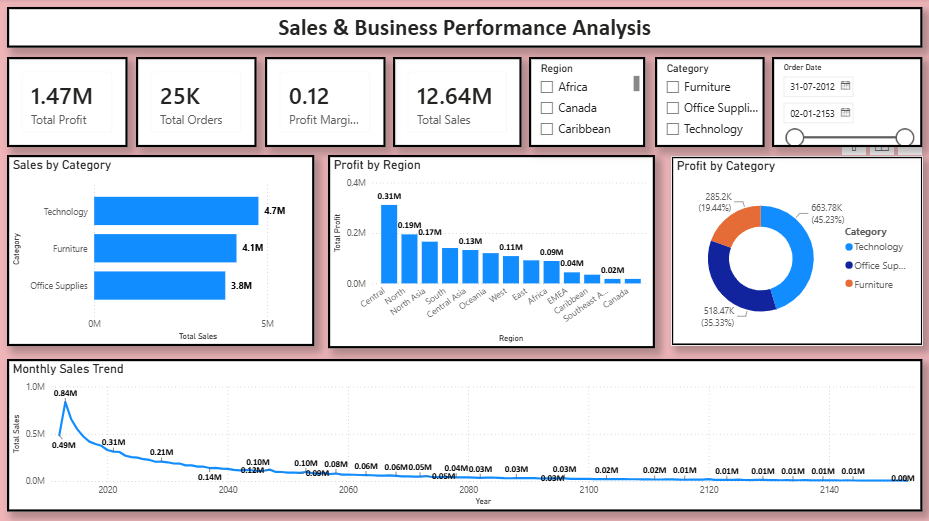

Layout of this report page (visuals, bound fields, positions):
{"tool":"powerbi","page":{"name":"Sales Overview","canvas":[1280,720],"ordinal":0},"visuals":[{"type":"cardVisual","fields":{"Data":["Orders_Cleaned.Total Sales"]},"box":[541.4,80,177.1,124.3],"z":0},{"type":"cardVisual","fields":{"Data":["Orders_Cleaned.Total Profit"]},"box":[10,80,165.7,124.3],"z":1000},{"type":"cardVisual","fields":{"Data":["Orders_Cleaned.Total Orders"]},"box":[187.1,80,165.7,124.3],"z":2000},{"type":"cardVisual","fields":{"Data":["Orders_Cleaned.Profit Margin %"]},"box":[364.3,80,165.7,124.3],"z":3000},{"type":"clusteredBarChart","title":"Sales by Category","fields":{"Category":["Orders_Cleaned.Category"],"Y":["Orders_Cleaned.Total Sales"]},"box":[10,214.3,422.9,262.9],"z":4000},{"type":"clusteredColumnChart","title":" Profit by Region","fields":{"Category":["Orders_Cleaned.Region"],"Y":["Orders_Cleaned.Total Profit"]},"box":[451.4,214.3,450,265.7],"z":5000},{"type":"lineChart","title":"Monthly Sales Trend ","fields":{"Category":["Orders_Cleaned.Order Date.Variation.Date Hierarchy.Year","Orders_Cleaned.Order Date.Variation.Date Hierarchy.Month"],"Y":["Orders_Cleaned.Total Sales"]},"box":[10,495.7,1260,210],"z":6000},{"type":"donutChart","title":"Profit by Category","fields":{"Category":["Orders_Cleaned.Category"],"Y":["Orders_Cleaned.Total Profit"]},"box":[922.9,215.7,347.1,261.4],"z":7000},{"type":"slicer","fields":{"Values":["Orders_Cleaned.Region"]},"box":[728.6,80,160,124.3],"z":8000},{"type":"slicer","fields":{"Values":["Orders_Cleaned.Category"]},"box":[901.4,80,151.4,124.3],"z":9000},{"type":"slicer","fields":{"Values":["Orders_Cleaned.Order Date"]},"box":[1062.9,80,207.1,124.3],"z":10000},{"type":"textbox","box":[10,11.4,1260,55.7],"z":11000}]}

Visuals, with their boxes in screenshot pixels (x1, y1, x2, y2), scaled from the page's 1280x720 canvas onto the 929x521 screenshot:
cardVisual - Orders_Cleaned.Total Sales: select_region(393, 58, 521, 148)
cardVisual - Orders_Cleaned.Total Profit: select_region(7, 58, 128, 148)
cardVisual - Orders_Cleaned.Total Orders: select_region(136, 58, 256, 148)
cardVisual - Orders_Cleaned.Profit Margin %: select_region(264, 58, 385, 148)
"Sales by Category" clusteredBarChart: select_region(7, 155, 314, 345)
" Profit by Region" clusteredColumnChart: select_region(328, 155, 654, 347)
"Monthly Sales Trend " lineChart: select_region(7, 359, 922, 511)
"Profit by Category" donutChart: select_region(670, 156, 922, 345)
slicer - Orders_Cleaned.Region: select_region(529, 58, 645, 148)
slicer - Orders_Cleaned.Category: select_region(654, 58, 764, 148)
slicer - Orders_Cleaned.Order Date: select_region(771, 58, 922, 148)
textbox: select_region(7, 8, 922, 49)
